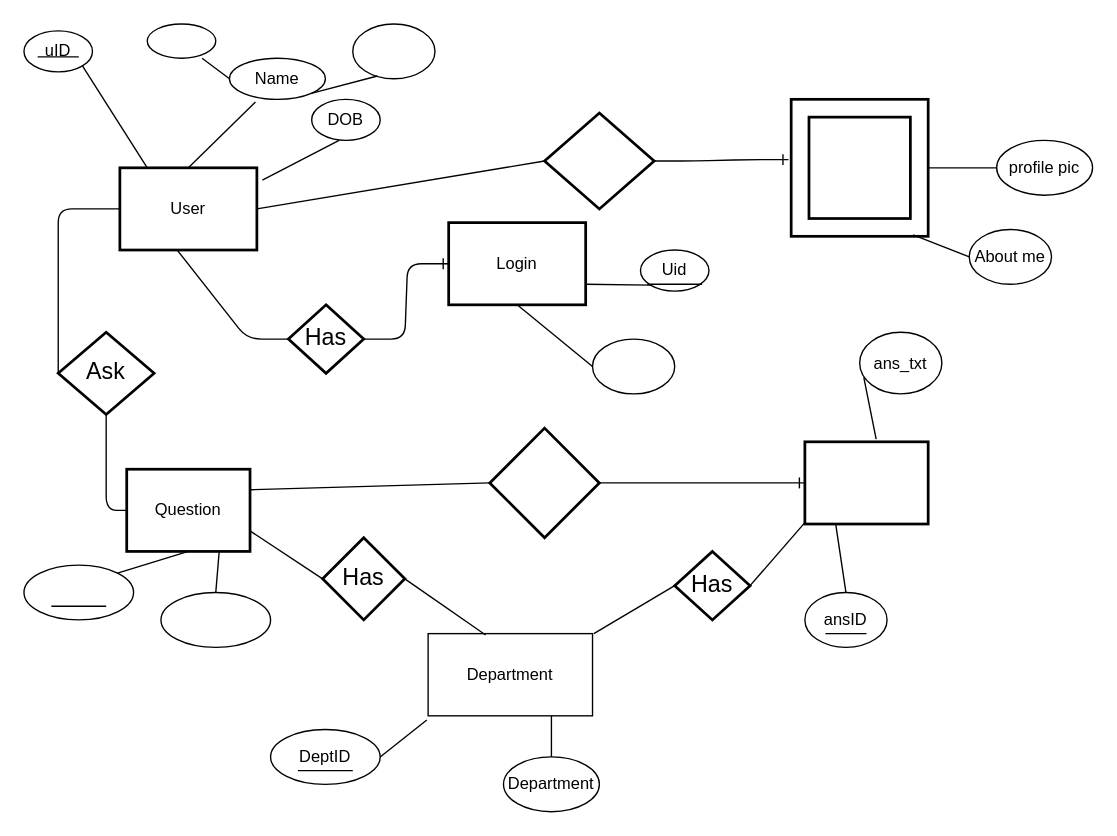
Some shapes in this 1117 by 836 pixel diagram are drawn without their labels. The box of each missing label's shape, as (x1, y1, x2, y2) in pixels:
Answer: (803, 440, 929, 525)
Fname: (351, 23, 435, 79)
LName: (146, 23, 216, 58)
Manage: (543, 111, 655, 210)
Password: (591, 338, 675, 394)
Profile: (789, 97, 929, 237)
qID: (23, 564, 134, 620)
Que_txt: (160, 591, 271, 647)
Solution: (488, 426, 600, 538)
